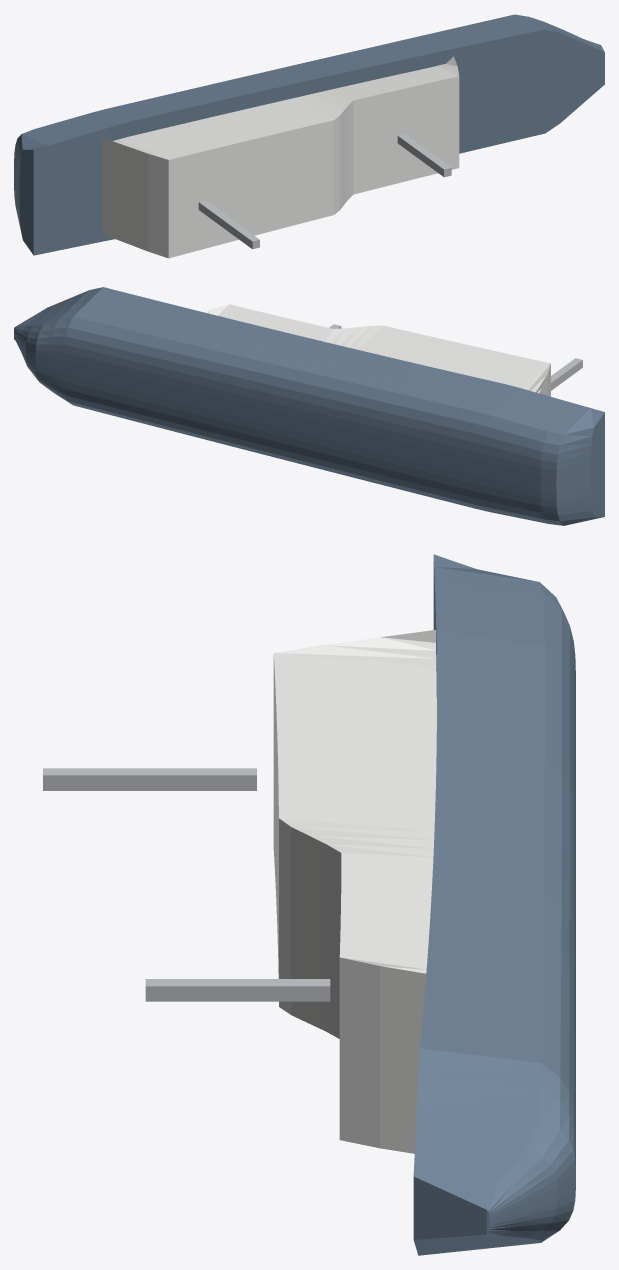
The model's file is loft-power-large-slender.glb.
3 views of the same model, one above another, from view 1: azimuth 30°, elevation 25°; view 2: azimuth 150°, elevation 25°; view 3: azimuth 270°, elevation 25° (orthographic). The views are drawn at different scales.
Visible parts, largest first — view 1: loft-power-large-slender; view 2: loft-power-large-slender; view 3: loft-power-large-slender.
Boxes of the visible parts, bbox=[...] form: loft-power-large-slender: bbox=[14, 14, 604, 258]; loft-power-large-slender: bbox=[14, 287, 604, 525]; loft-power-large-slender: bbox=[43, 554, 575, 1255].
Bounding box in the file's own units: 1.87 × 0.3514 × 0.7476.
